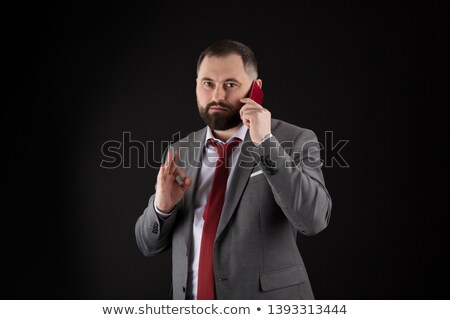phone: (244, 80, 270, 135)
talk: (196, 74, 279, 136)
